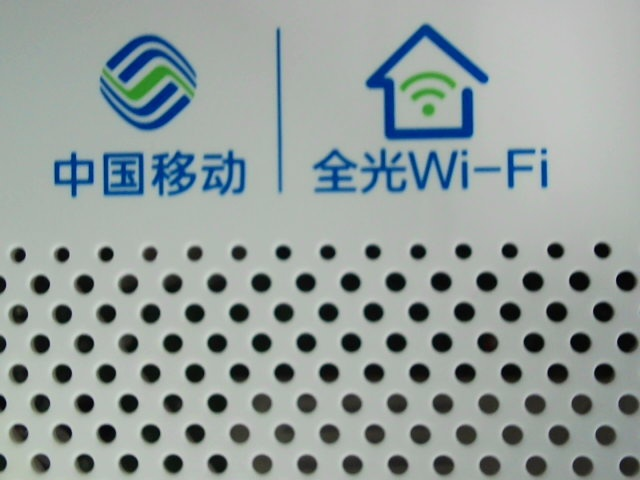BJ_QuanGuangMobile: (45, 21, 551, 209)
